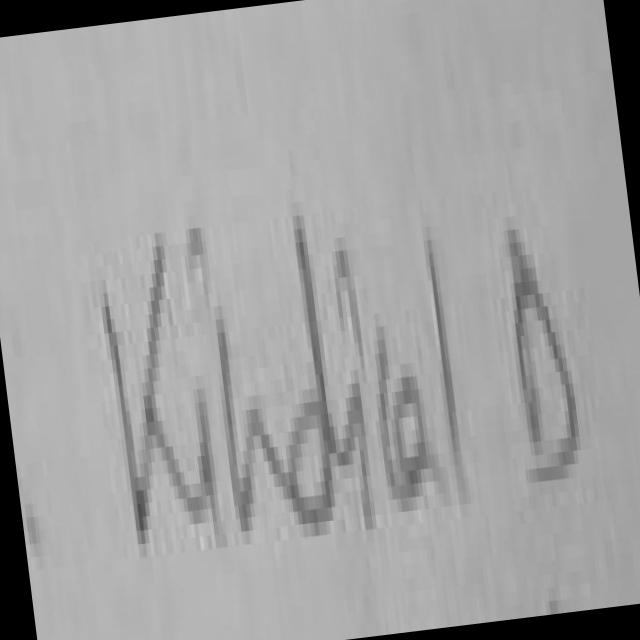D: (482, 146, 600, 534)
K: (76, 179, 216, 613)
a: (384, 346, 448, 526)
c: (356, 301, 411, 530)
d: (252, 162, 348, 544)
i: (318, 228, 390, 566), (170, 228, 240, 566)
l: (411, 199, 483, 533)
n: (208, 306, 296, 548)
